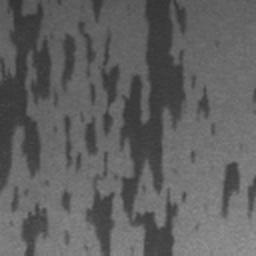Red iron sheet: (0, 0, 218, 256), (219, 160, 256, 219), (88, 0, 106, 20), (60, 189, 72, 215), (189, 148, 198, 164), (63, 230, 70, 247)
